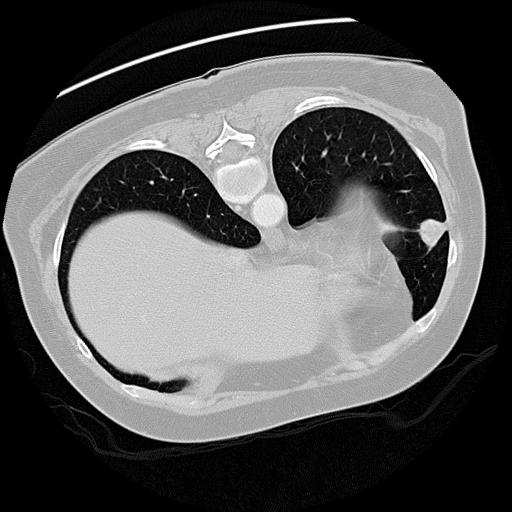nodule: (412, 214, 452, 254)
